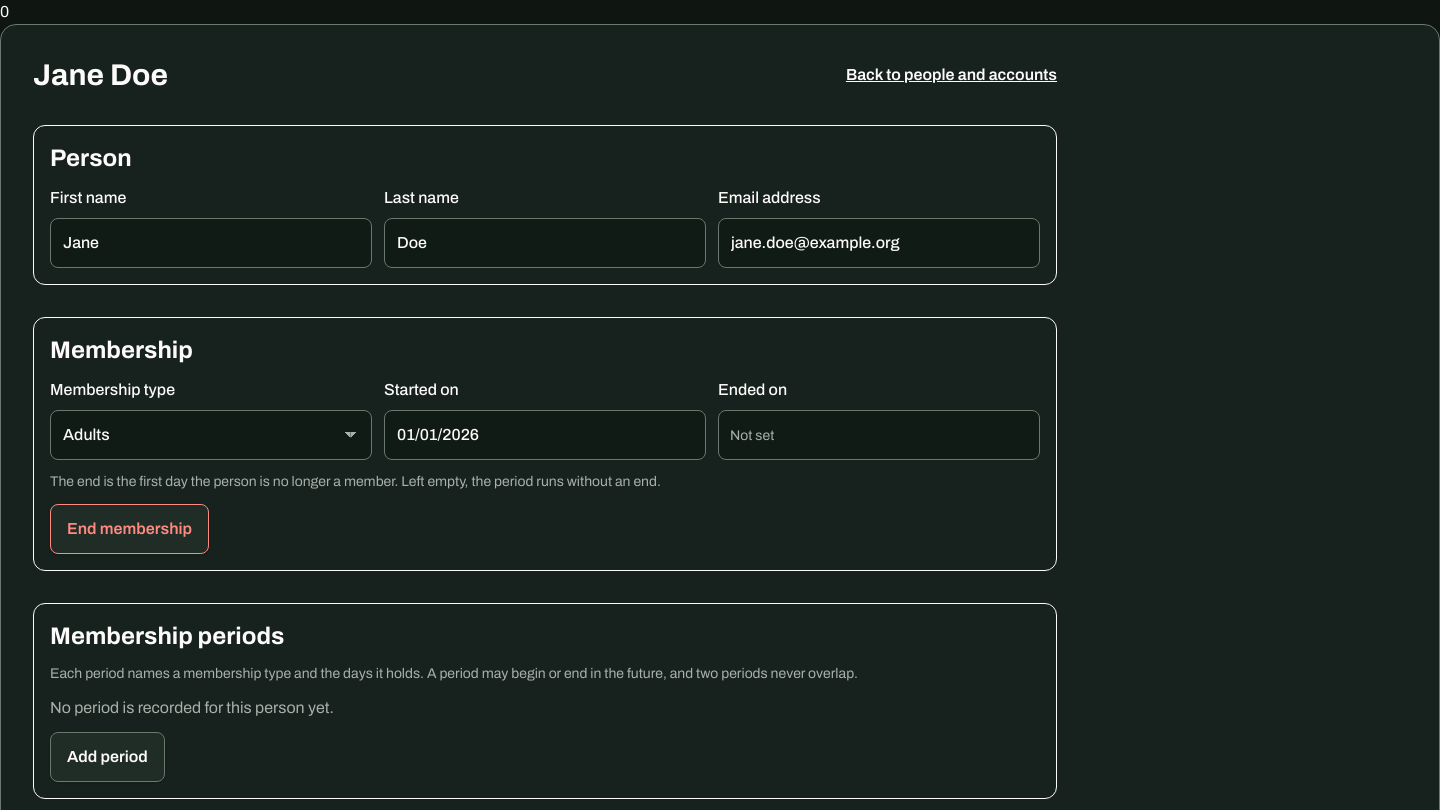
Test: AdminPersonView › given a saved name and roles that need a fresh sign-in, when the administrator proves it, then only the roles are sent again
Replace the text in the field with test id "person-first-name" with "Mary": (211, 243) [50, 218, 372, 268]
(page scrolled)
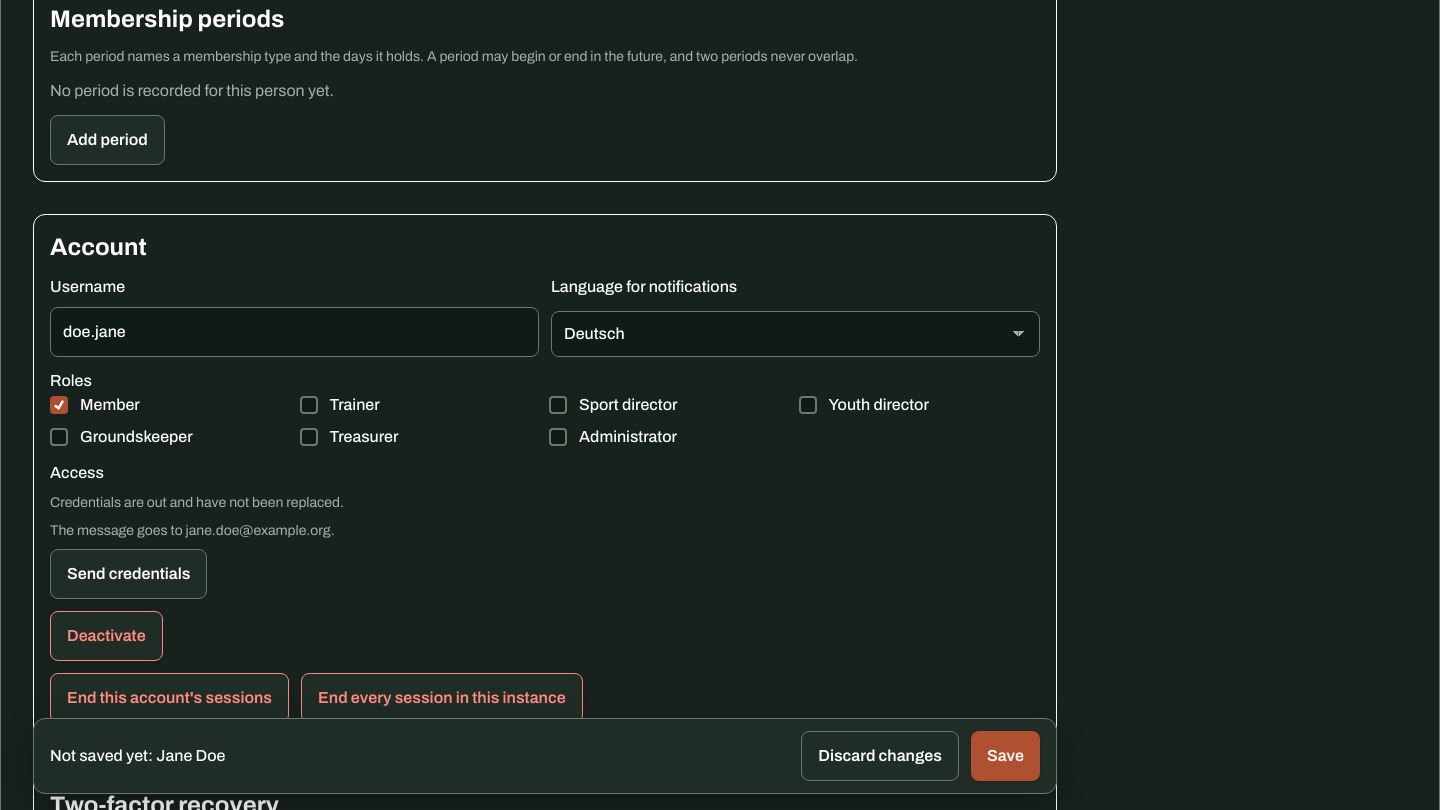
Click the checkbox with test id "account-roles-TRAINER": (308, 405) [300, 396, 318, 414]
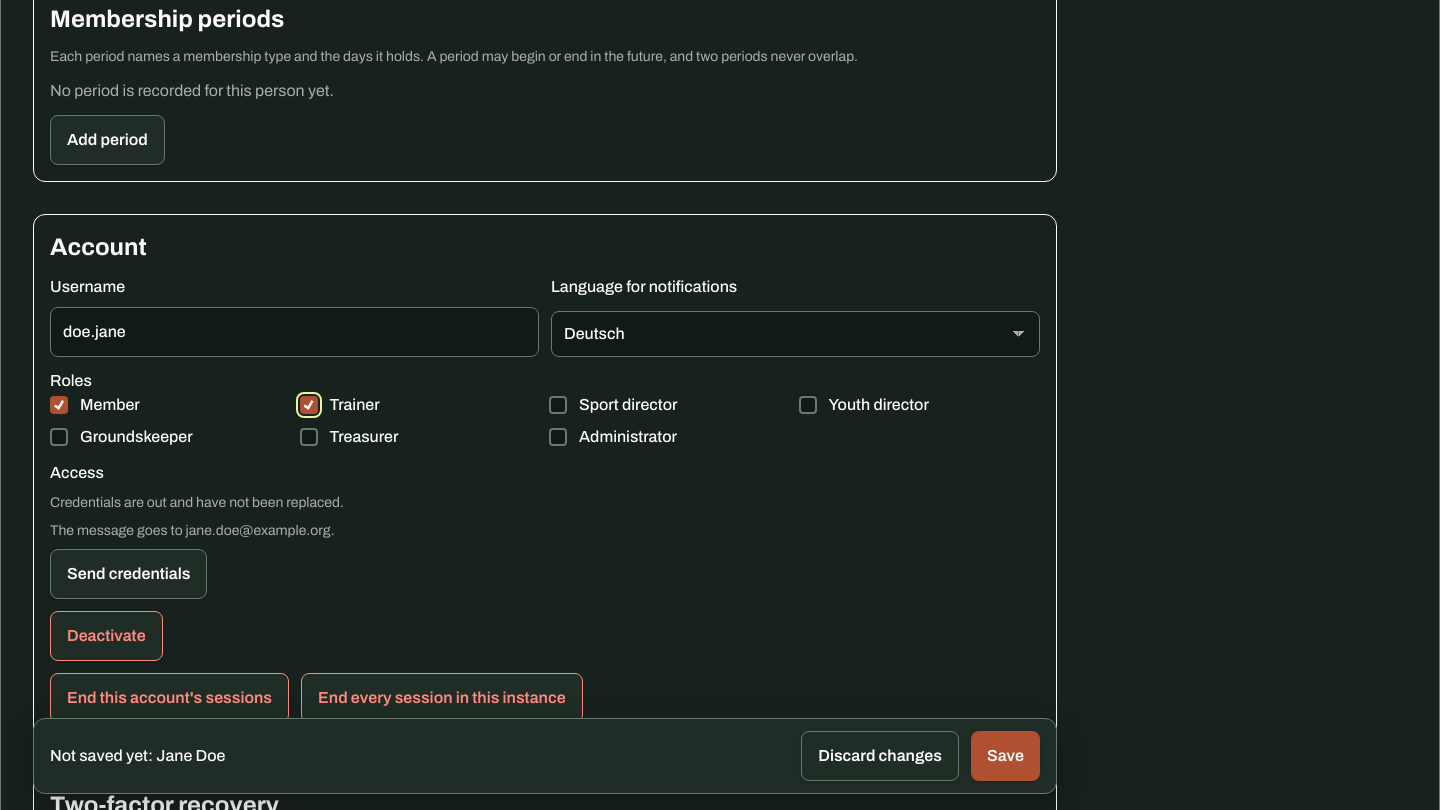
Click the button with test id "save-person": (1006, 756) [971, 731, 1040, 781]
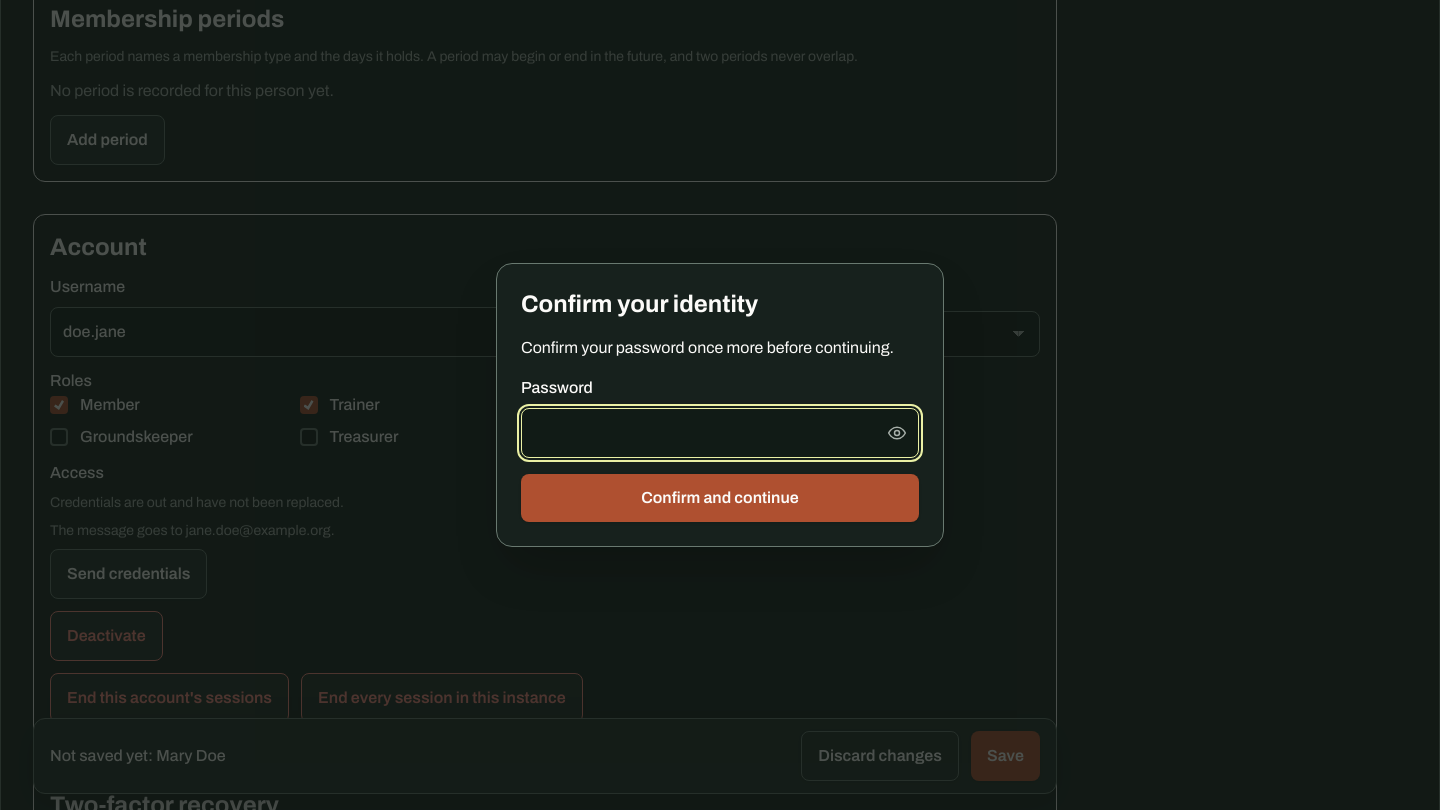
In the password field with id "admin-reauthentication-password": (720, 433) [521, 408, 919, 458], type "admin-password"
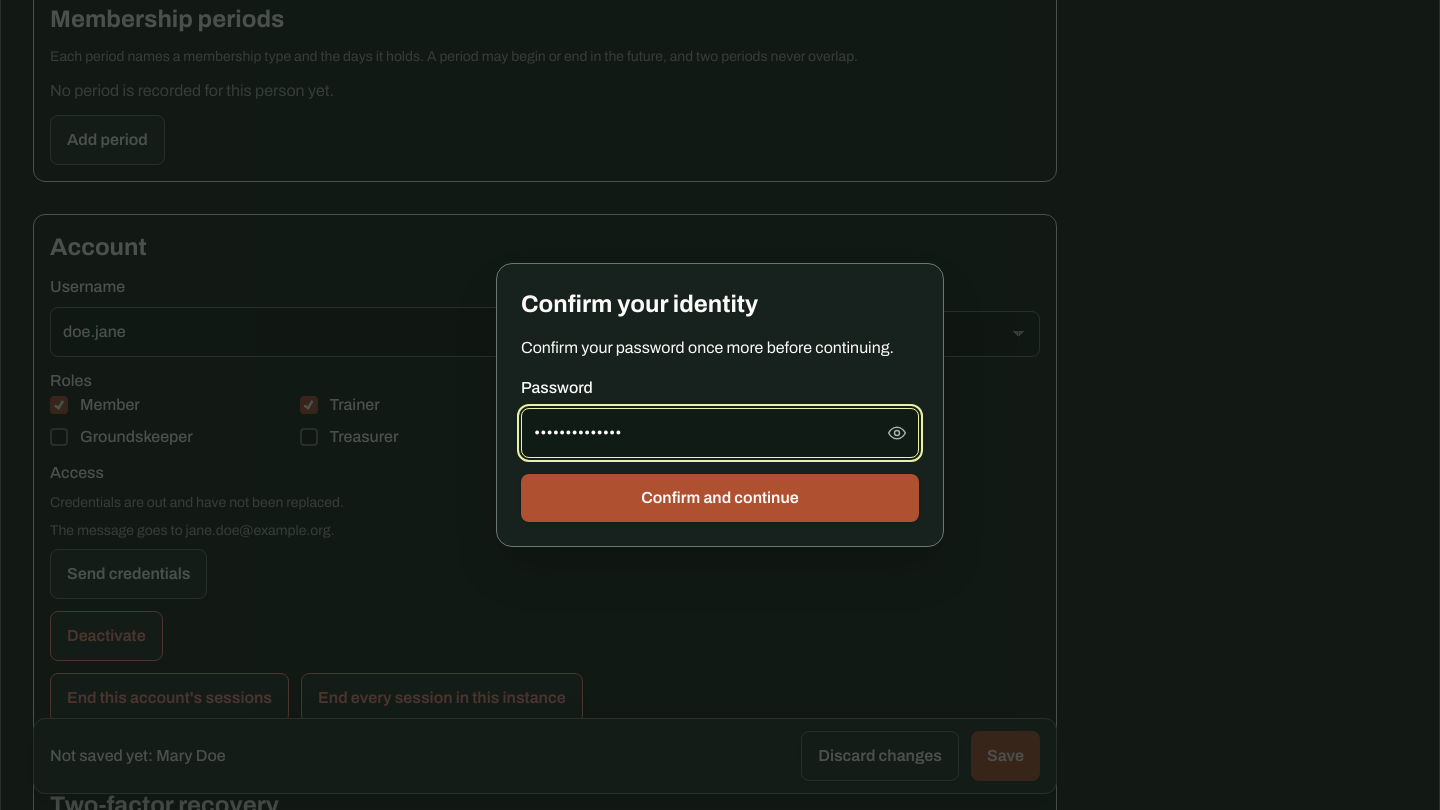
Click the button with test id "admin-reauthentication-submit": (720, 498) [521, 474, 919, 522]
(page scrolled)
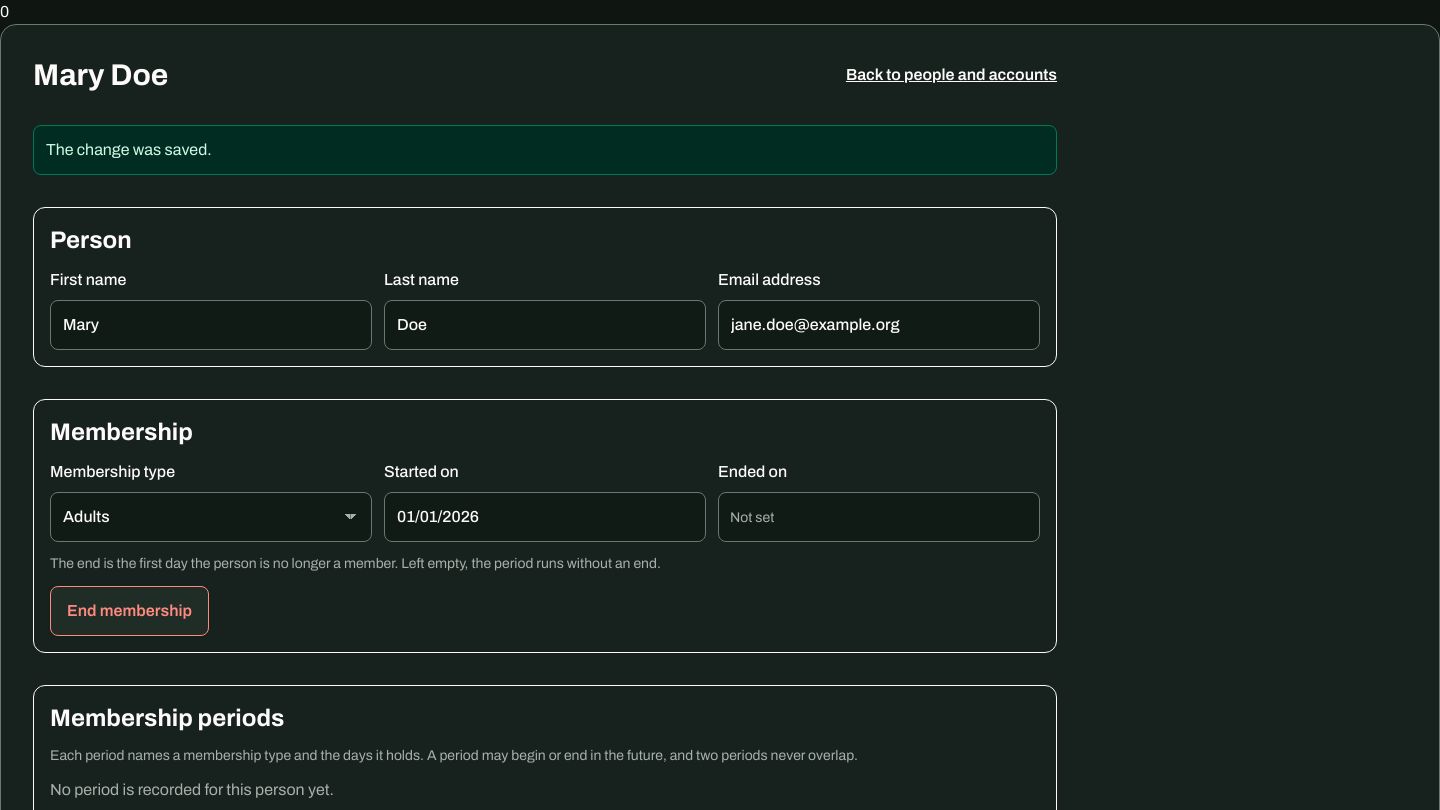
Expected: the message "The change was saved." is shown, [33, 125, 1057, 175]
Expected: the text with test id "unsaved-count" reads "0", [0, 3, 9, 20]
